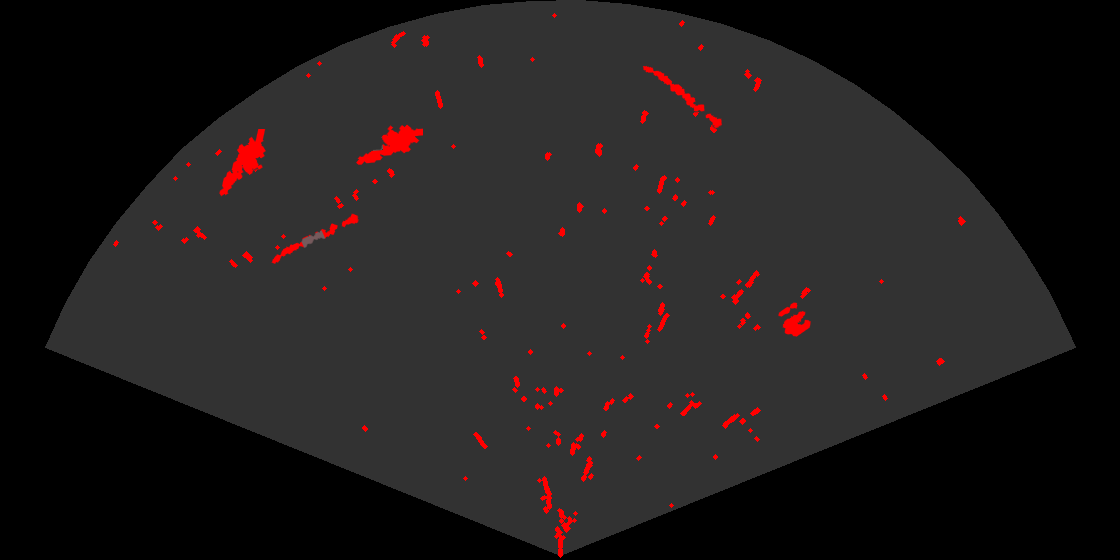ball: (777, 301, 812, 338)
chain: (641, 64, 724, 130), (270, 212, 361, 265)
frogman: (218, 129, 267, 198), (355, 123, 423, 166)
